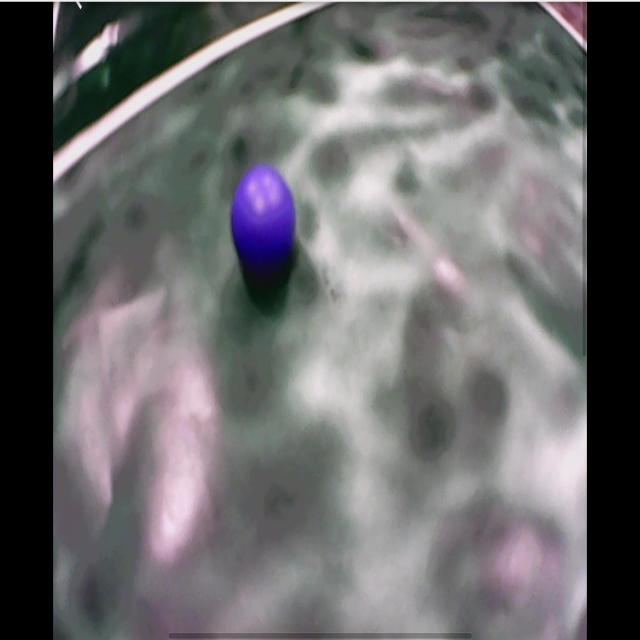ball: (232, 168, 296, 262)
